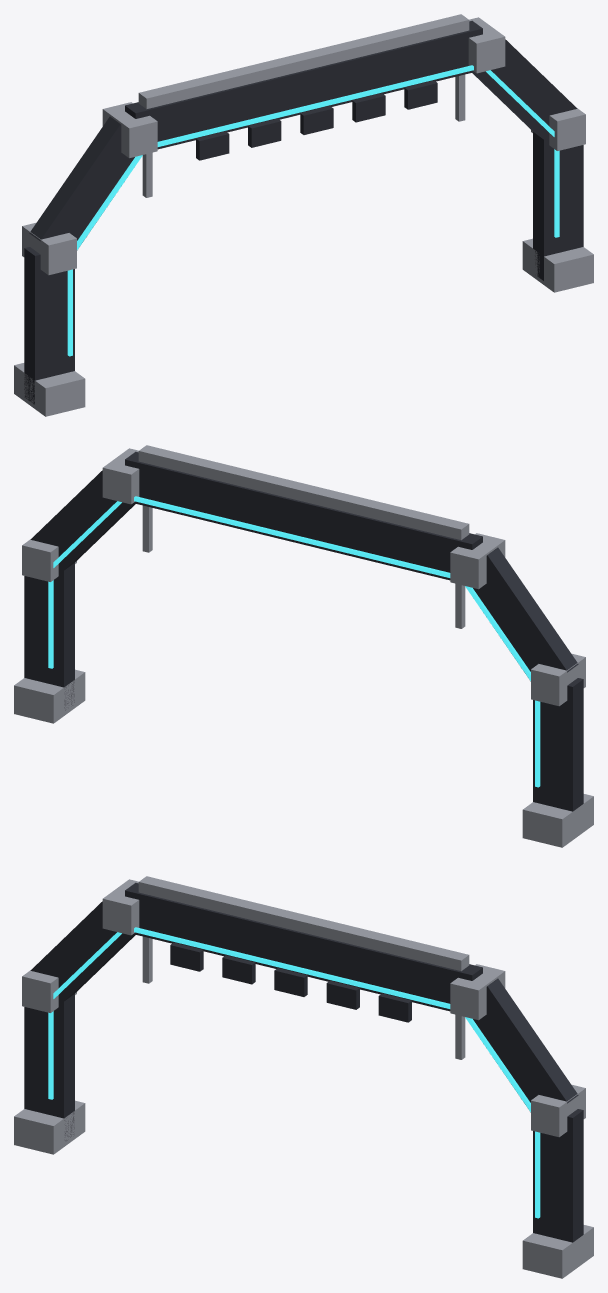
Rendered from gates.glb.
3 renders of one model, top to bottom at view 1: azimuth 30°, elevation 25°; view 2: azimuth 150°, elevation 25°; view 3: azimuth 330°, elevation 25°, orthographic.
Visible parts, largest first — view 1: gate_start, gate; view 2: gate_start, gate; view 3: gate_start, gate.
Part boxes in pixels (x1,y1,x2,y2): gate_start: [14, 14, 593, 416]; gate: [18, 20, 588, 410]; gate_start: [14, 445, 593, 847]; gate: [19, 452, 589, 844]; gate_start: [14, 876, 593, 1278]; gate: [19, 883, 589, 1275].
Bounding box in the file's own units: 44.2 × 21.72 × 4.4.
